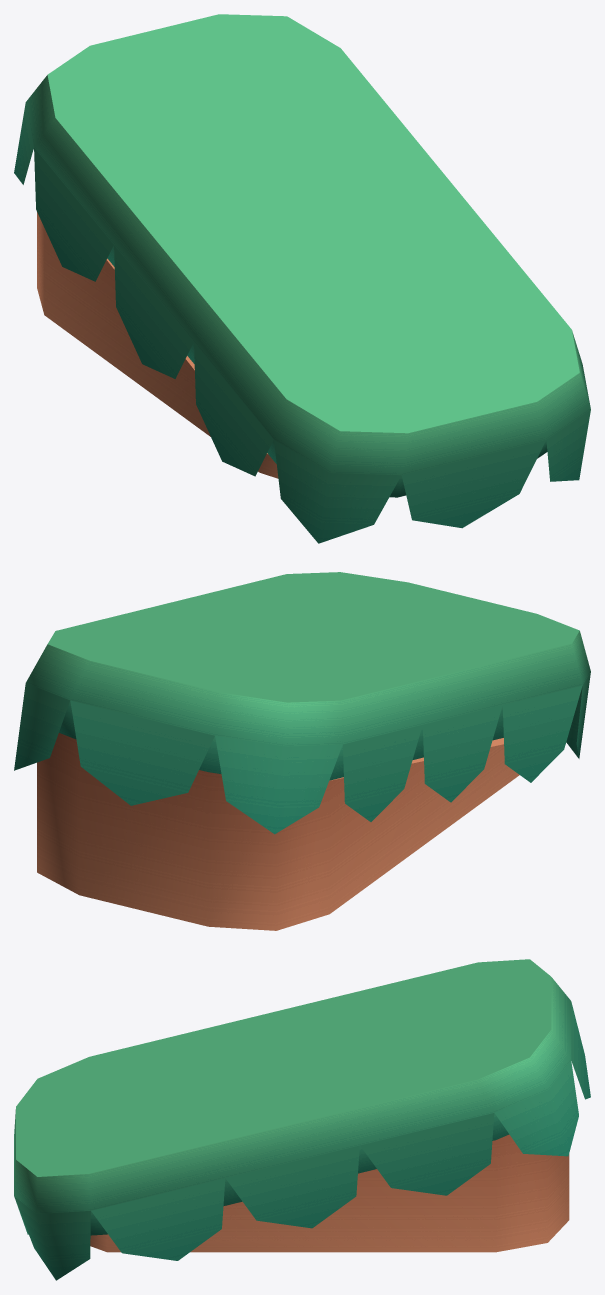
File: block-grass-overhang-large-slope-narrow.glb
The picture shows the model from 3 angles, top to bottom: view 1: azimuth 30°, elevation 25°; view 2: azimuth 150°, elevation 25°; view 3: azimuth 270°, elevation 25°; orthographic projection. The views are drawn at different scales.
Parts seen in each view (by area): view 1: block-grass-overhang-large-slope-narrow; view 2: block-grass-overhang-large-slope-narrow; view 3: block-grass-overhang-large-slope-narrow.
Boxes of the visible parts, x1,y1,x2,y2 form: block-grass-overhang-large-slope-narrow: (14, 14, 590, 543); block-grass-overhang-large-slope-narrow: (14, 572, 590, 930); block-grass-overhang-large-slope-narrow: (14, 959, 590, 1280).
Size of the model in its own units: 1.08 by 0.9144 by 2.08.
Materials: 1 (1 with a texture image).
